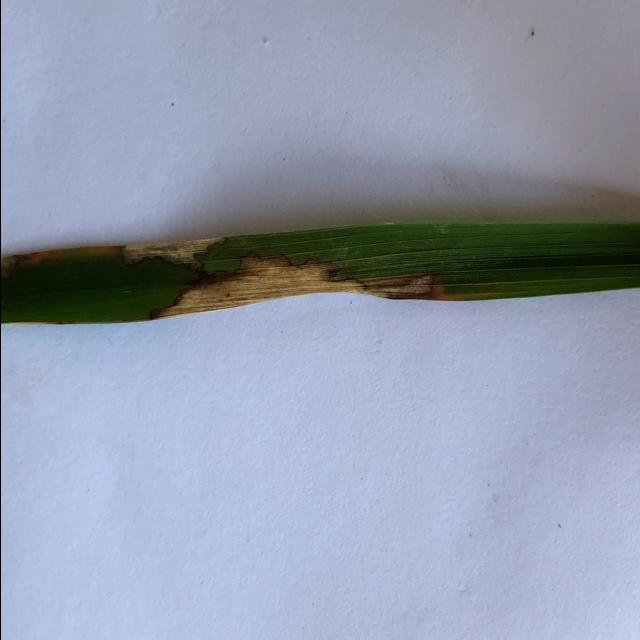Leaf Blight: (147, 251, 480, 320), (0, 238, 225, 279)
